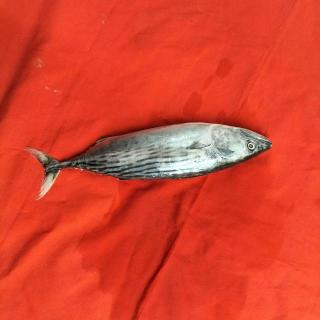Ikan: (24, 115, 274, 205)
